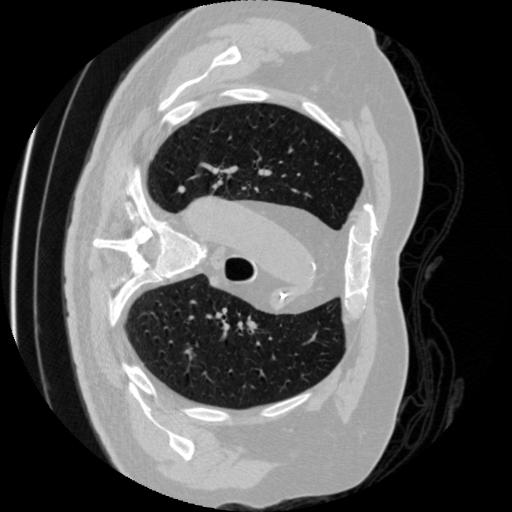nodule: (176, 186, 190, 200)
